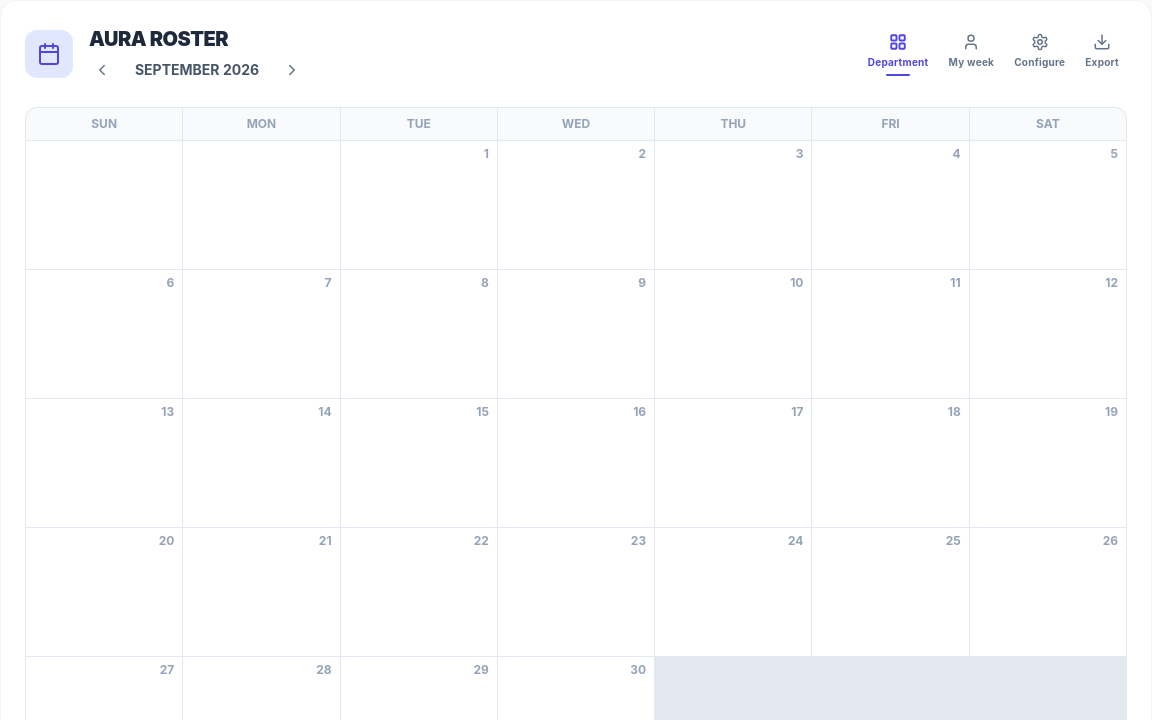
it: live mode: my week reads the live document and adds nothing to it › says so plainly when there is no live roster to read
This screenshot has width=1152, height=720.
Step 1. Click the button "My week" → click(971, 54), box [940, 26, 1002, 82]
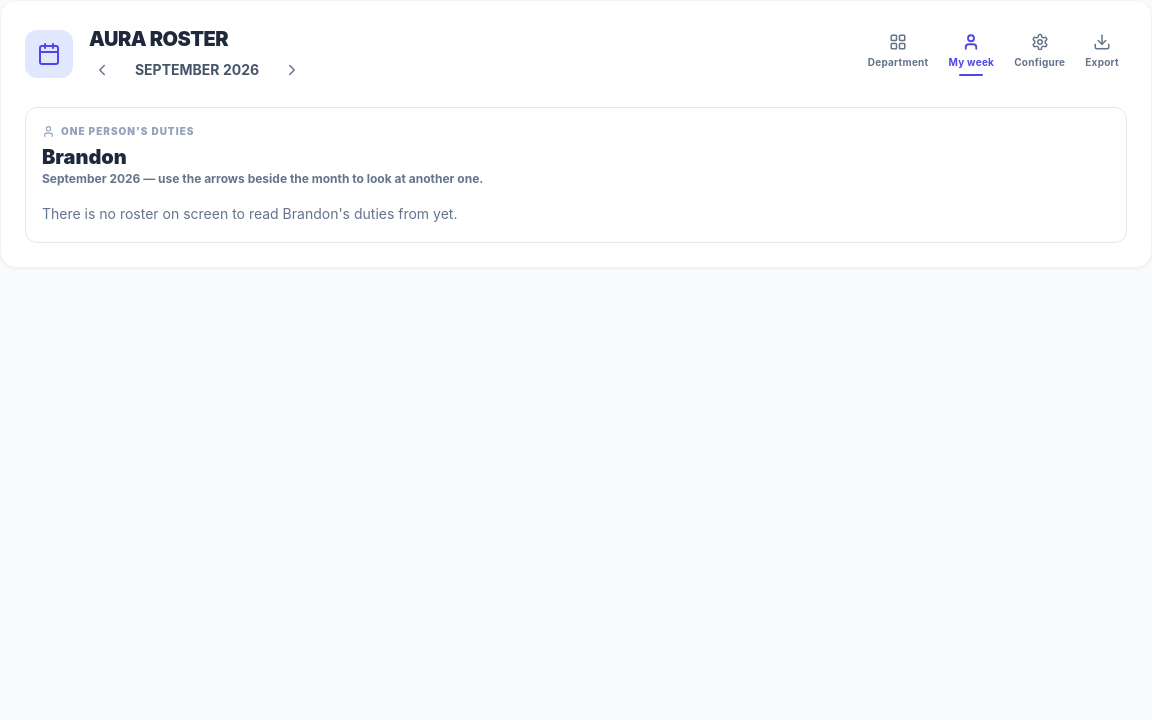
Result: the text "no roster on screen" is shown at [42, 205, 458, 222]
